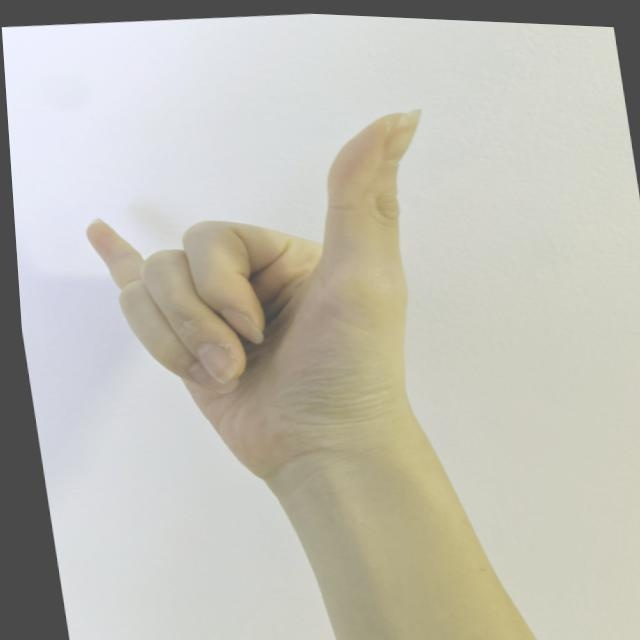Y: (58, 85, 478, 498)
